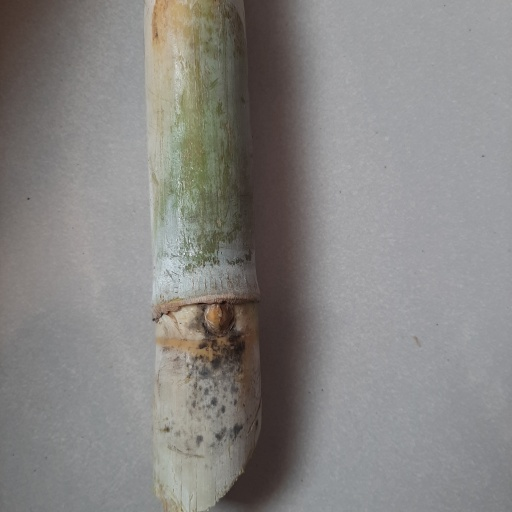Bud: (203, 301, 237, 338)
